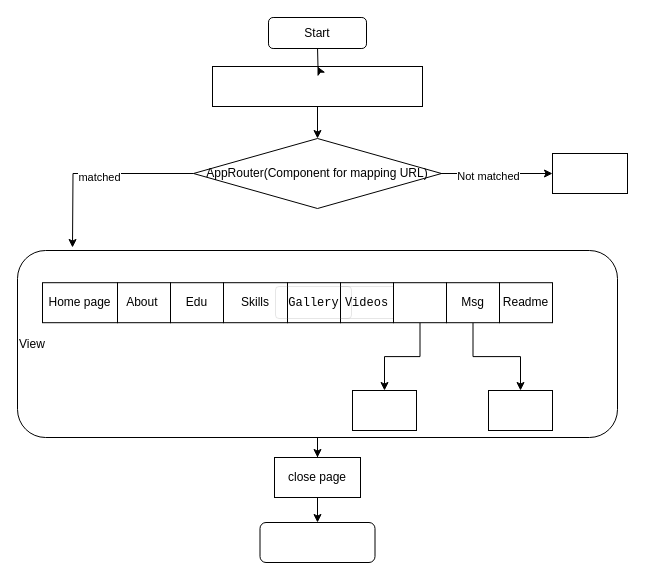
The diagram is 645 pixels wide and 580 high, and some of its shapes have lost their labels. Each missing label, with the centre of its shape:
404 page: point (590, 173)
article detail: point (384, 410)
Blog: point (419, 302)
End: point (317, 542)
User Action (visit and click NavBar): point (317, 86)
user chat: point (520, 410)
